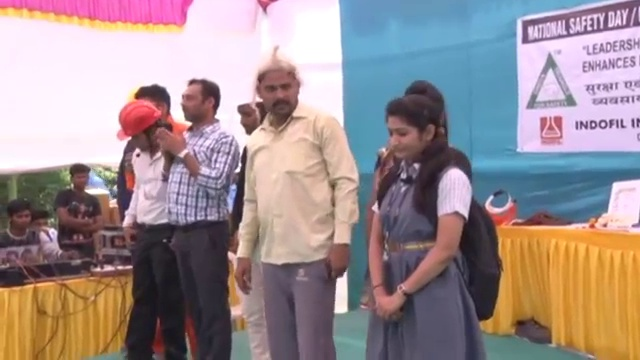helmet: (114, 100, 165, 140), (233, 80, 265, 112)
helmet_off: (380, 85, 451, 172), (248, 58, 306, 116), (175, 79, 221, 128), (125, 90, 169, 127), (6, 201, 34, 239), (68, 166, 91, 190)
helmet_on: (113, 98, 167, 155), (236, 80, 265, 138)
person: (358, 86, 502, 360), (233, 52, 360, 360), (158, 77, 241, 360), (113, 99, 190, 359), (227, 78, 273, 359), (0, 201, 66, 269), (56, 166, 104, 250)
